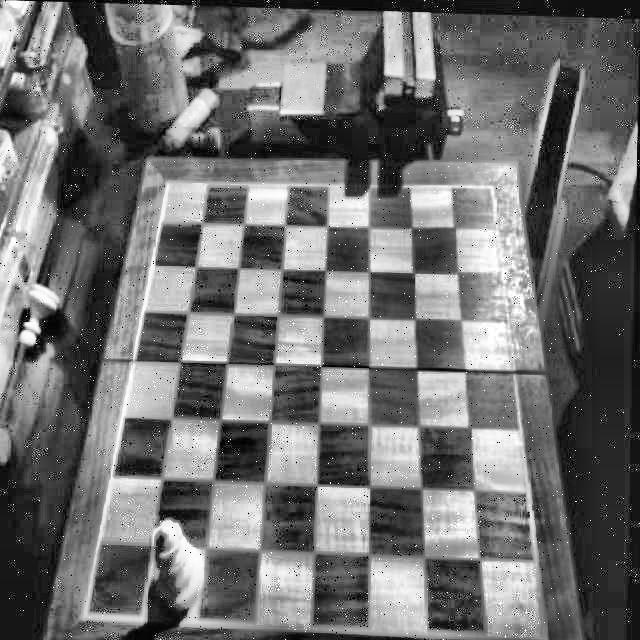white-queen: (150, 516, 209, 614)
